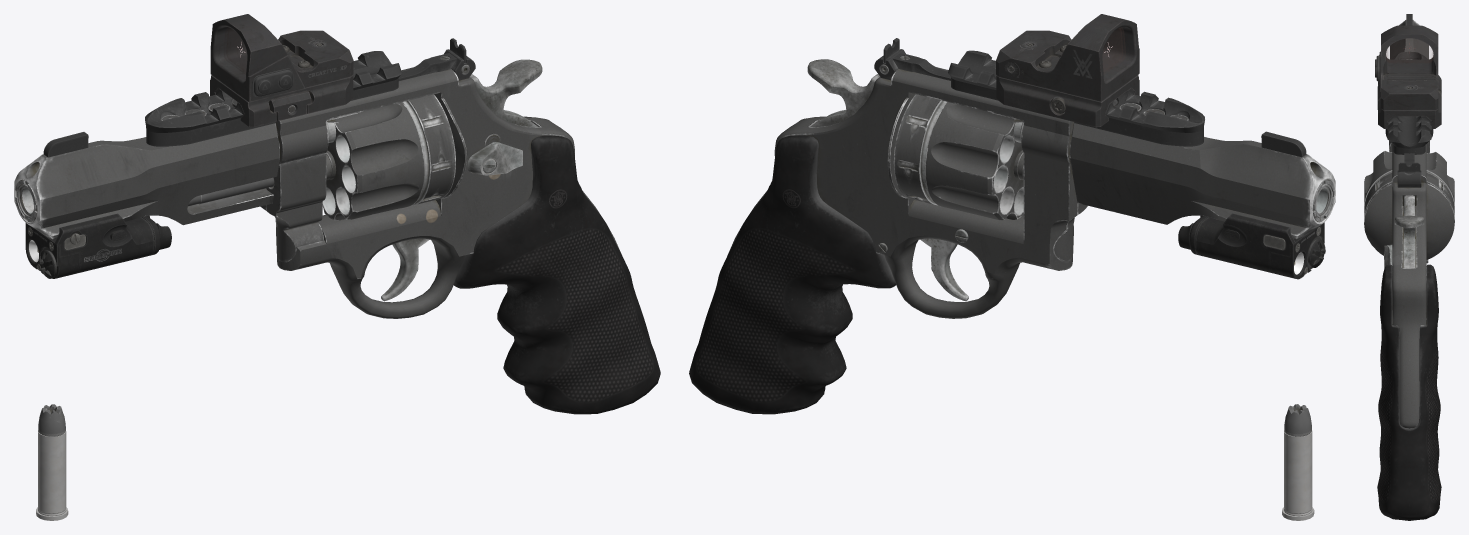
File: revolver.glb
3 renders of one model, left to right at view 1: azimuth 30°, elevation 25°; view 2: azimuth 150°, elevation 25°; view 3: azimuth 270°, elevation 25°, orthographic. The views are drawn at different scales.
Visible parts, largest first — view 1: Revolver.008_low.004, Revolver.005_low.004, Revolver.001_low.003, Revolver_low.003, AIM.001_low.003, Revolver.004_low.003, Light_low, Revolver.0051_low.005, Bullet2.001_low.003, Revolver.012_low.004, Revolver.007_low.003, Revolver.006_low.004 (+5 smaller); view 2: Revolver.008_low.004, Revolver.005_low.004, Revolver.001_low.003, Revolver_low.003, AIM.001_low.003, Revolver.004_low.003, Light_low, Bullet2.001_low.003, Revolver.012_low.004, Revolver.006_low.004, Bullet2.002_low.001, Revolver.015_low.003 (+1 smaller); view 3: Revolver.008_low.004, Revolver.005_low.004, AIM.001_low.003, Revolver_low.003, Revolver.004_low.003, Revolver.012_low.004, AIM.glass001_low.003, Revolver.001_low.003, Revolver.018_low.003, Revolver.019_low.003, Revolver.007_low.003, Revolver.017_low.003.
Part boxes in pixels (x1,y1,x2,y2): Revolver.008_low.004: (453, 116, 660, 414); Revolver.005_low.004: (260, 67, 621, 318); Revolver.001_low.003: (14, 123, 279, 239); Revolver_low.003: (322, 94, 455, 220); AIM.001_low.003: (210, 14, 353, 126); Revolver.004_low.003: (145, 51, 401, 146); Light_low: (25, 213, 160, 278); Revolver.0051_low.005: (266, 153, 326, 261); Bullet2.001_low.003: (36, 430, 68, 520); Revolver.012_low.004: (470, 59, 542, 127); Revolver.007_low.003: (467, 142, 522, 175); Revolver.006_low.004: (381, 238, 429, 301); Revolver.008_low.004: (689, 116, 895, 414); Revolver.005_low.004: (727, 67, 1077, 318); Revolver.001_low.003: (1069, 123, 1335, 239); Revolver_low.003: (893, 94, 1023, 220); AIM.001_low.003: (996, 14, 1139, 127); Revolver.004_low.003: (948, 50, 1204, 146); Light_low: (1189, 213, 1324, 279); Bullet2.001_low.003: (1282, 430, 1314, 520); Revolver.012_low.004: (807, 59, 879, 126); Revolver.006_low.004: (920, 238, 968, 300); Bullet2.002_low.001: (1284, 404, 1311, 436); Revolver.015_low.003: (1261, 131, 1306, 157); Revolver.008_low.004: (1377, 264, 1441, 520); Revolver.005_low.004: (1364, 141, 1454, 428); AIM.001_low.003: (1378, 25, 1441, 128); Revolver_low.003: (1364, 150, 1454, 218); Revolver.004_low.003: (1387, 51, 1431, 154); Revolver.012_low.004: (1394, 195, 1424, 267); AIM.glass001_low.003: (1386, 39, 1433, 62); Revolver.001_low.003: (1390, 20, 1428, 59); Revolver.018_low.003: (1397, 170, 1421, 187); Revolver.019_low.003: (1398, 162, 1420, 173); Revolver.007_low.003: (1384, 244, 1392, 268); Revolver.017_low.003: (1404, 153, 1414, 165).
Size of the model in its own units: 0.2546 by 0.1811 by 0.0421.
5 materials, 5 textured.
